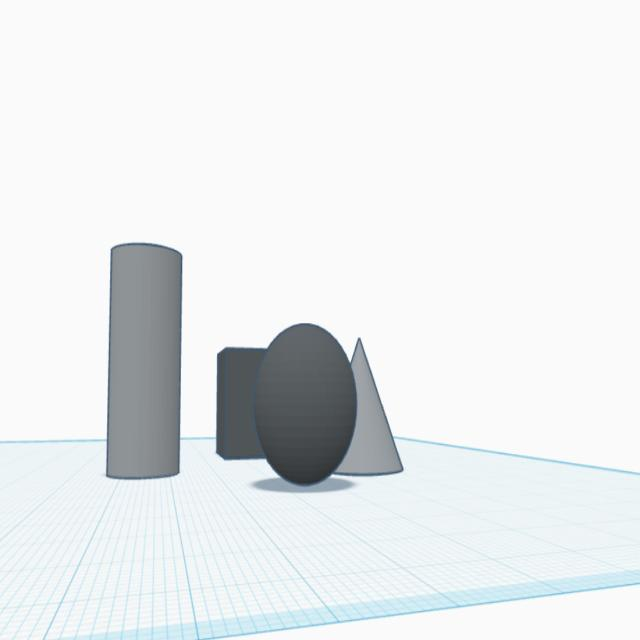sphere: (253, 322, 359, 490)
